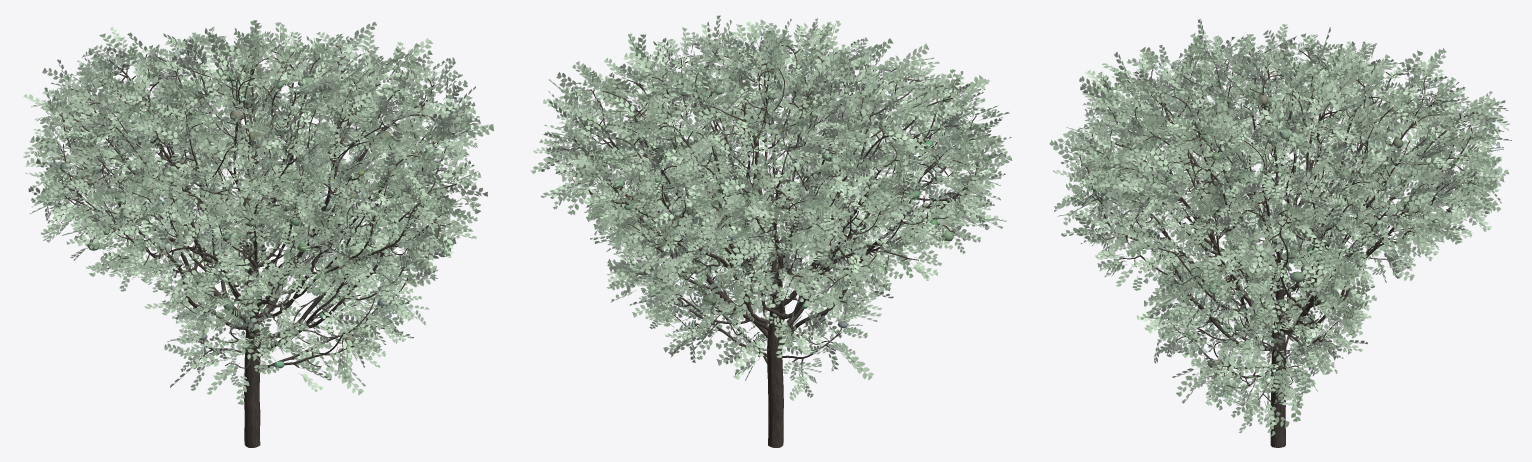
Rendered from tree_50_camphor.glb.
The picture shows the model from 3 angles, left to right: view 1: azimuth 30°, elevation 25°; view 2: azimuth 150°, elevation 25°; view 3: azimuth 270°, elevation 25°; orthographic projection. The views are drawn at different scales.
Parts seen in each view (by area): view 1: tree_50_camphor.leaves, tree_50_camphor.trunk_branches, tree_50_camphor.foliage_volume; view 2: tree_50_camphor.leaves, tree_50_camphor.trunk_branches, tree_50_camphor.foliage_volume; view 3: tree_50_camphor.leaves, tree_50_camphor.trunk_branches, tree_50_camphor.foliage_volume.
Boxes of the visible parts, x1,y1,x2,y2 form: tree_50_camphor.leaves: (23, 20, 493, 404); tree_50_camphor.trunk_branches: (52, 45, 456, 447); tree_50_camphor.foliage_volume: (60, 71, 431, 368); tree_50_camphor.leaves: (531, 15, 1012, 400); tree_50_camphor.trunk_branches: (563, 45, 980, 447); tree_50_camphor.foliage_volume: (614, 58, 953, 327); tree_50_camphor.leaves: (1049, 18, 1511, 436); tree_50_camphor.trunk_branches: (1079, 49, 1478, 447); tree_50_camphor.foliage_volume: (1122, 80, 1444, 369).
Bounding box in the file's own units: 15.18 × 13.35 × 15.05.
3 materials, 2 textured.
